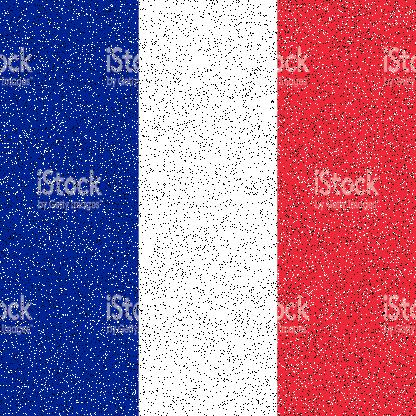fr: (3, 5, 416, 415)
